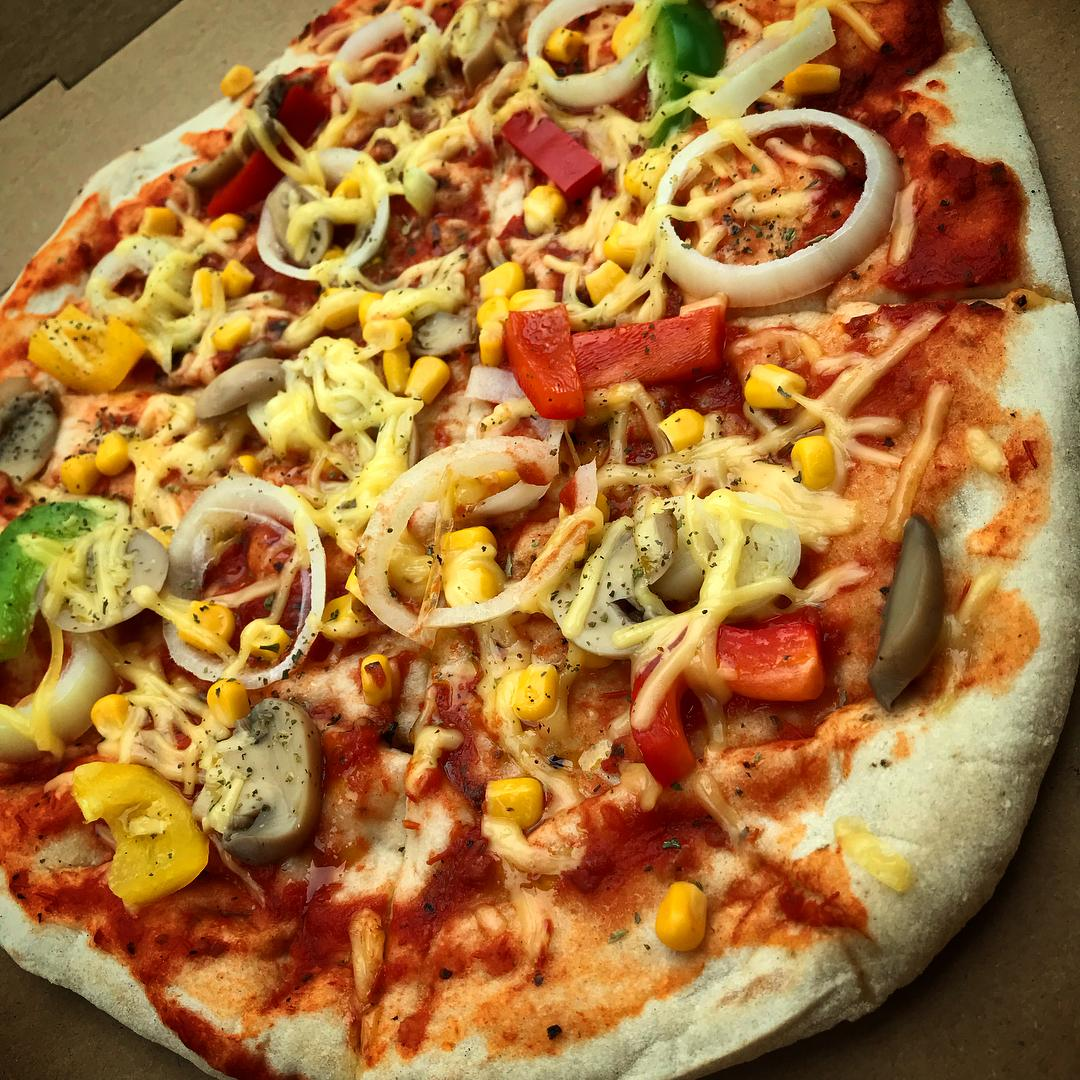Corn: (358, 290, 451, 407), (181, 598, 288, 657), (432, 524, 506, 607), (579, 220, 646, 301), (62, 430, 134, 499), (469, 266, 518, 365), (657, 879, 709, 953), (187, 257, 258, 304), (486, 773, 542, 826), (745, 361, 807, 408), (616, 142, 667, 198), (511, 661, 560, 719), (315, 596, 376, 641), (204, 678, 254, 725), (89, 690, 136, 739), (655, 405, 708, 448), (793, 434, 835, 487), (545, 20, 585, 66), (783, 65, 844, 95), (214, 58, 257, 100), (358, 657, 398, 702), (206, 211, 250, 246), (210, 315, 254, 350)
Mushroom: (198, 708, 326, 869), (874, 510, 952, 712), (184, 76, 314, 194), (0, 378, 65, 496), (191, 352, 286, 430)
Onion: (663, 117, 900, 309), (158, 473, 328, 692)
Peppers: (588, 294, 729, 389), (693, 623, 833, 695), (623, 647, 692, 787), (505, 307, 588, 417), (507, 107, 602, 201)
Pizza: (0, 0, 1080, 1080)
